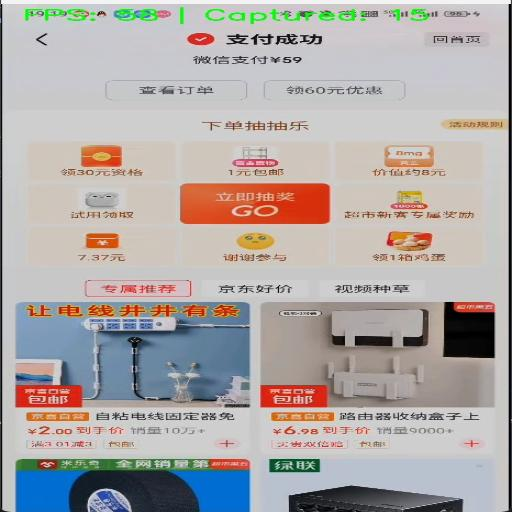back: (14, 30, 69, 52)
butten: (265, 300, 500, 457), (16, 302, 251, 455), (102, 77, 258, 101), (266, 78, 408, 96)
close: (426, 33, 490, 47)
